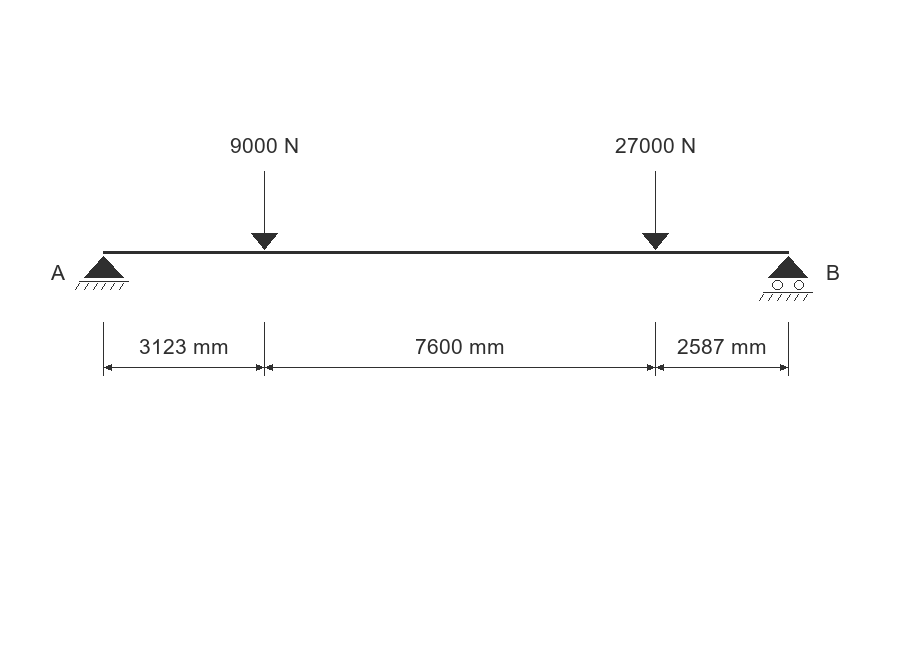pin_support: (75, 256, 129, 290)
point_load: (251, 171, 278, 250), (642, 171, 669, 250)
roller_support: (759, 256, 813, 301)
